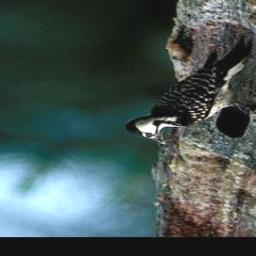Woodpecker: (123, 34, 251, 147)
